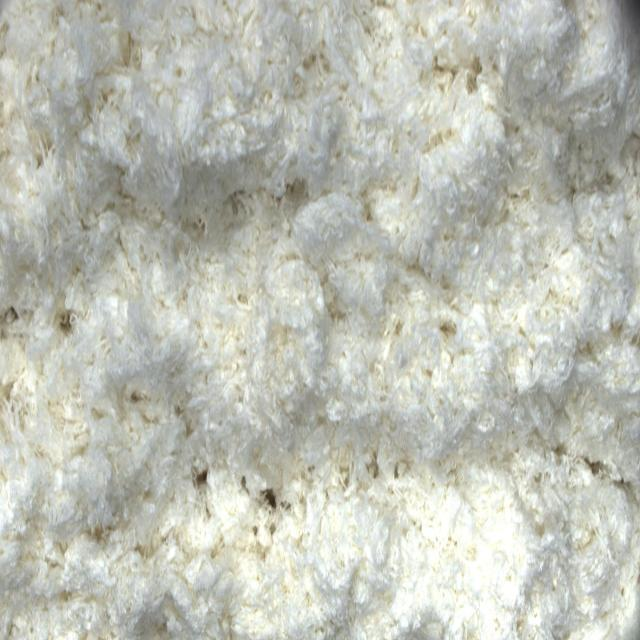dust: (255, 473, 284, 530)
